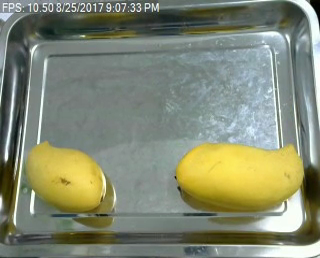Mango: (174, 139, 305, 213), (23, 139, 111, 216)
